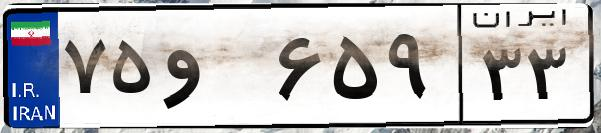3: (475, 38, 525, 113), (525, 38, 570, 115)
5: (330, 28, 385, 110), (110, 28, 158, 98)
6: (270, 28, 330, 110)
7: (57, 26, 110, 100)
9: (385, 28, 445, 110)
و: (158, 20, 270, 120)
